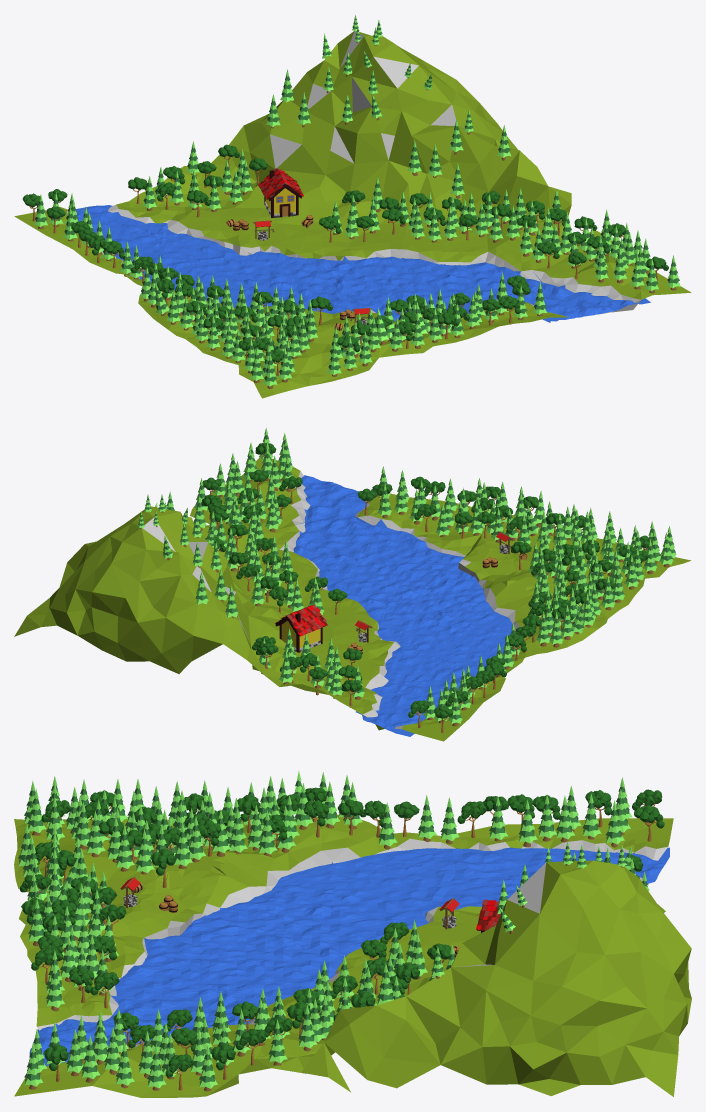
Rendered from szene.glb.
3 renders of one model, top to bottom at view 1: azimuth 30°, elevation 25°; view 2: azimuth 150°, elevation 25°; view 3: azimuth 270°, elevation 25°, orthographic. The views are drawn at different scales.
Parts seen in each view (by area): view 1: Ground, Lake, House; view 2: Ground, Lake, House; view 3: Ground, Lake, House, tree.009, tree.011.
Boxes of the visible parts, x1,y1,x2,y2 form: Ground: [14, 31, 691, 398]; Lake: [76, 205, 650, 322]; House: [258, 168, 303, 217]; Ground: [14, 457, 691, 741]; Lake: [293, 475, 512, 736]; House: [275, 604, 327, 652]; Ground: [14, 814, 691, 1097]; Lake: [29, 847, 669, 1066]; House: [476, 899, 500, 932]; tree.009: [634, 804, 664, 841]; tree.011: [457, 801, 486, 838].
Bounding box in the file's own units: 9.39 × 4.11 × 9.65.
